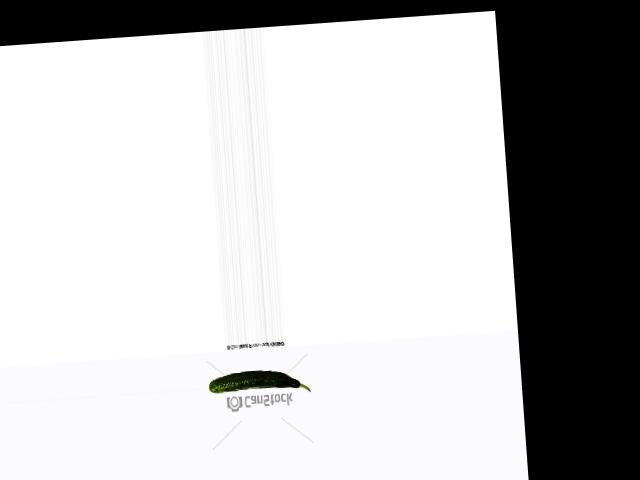cucumber: (208, 366, 311, 397)
